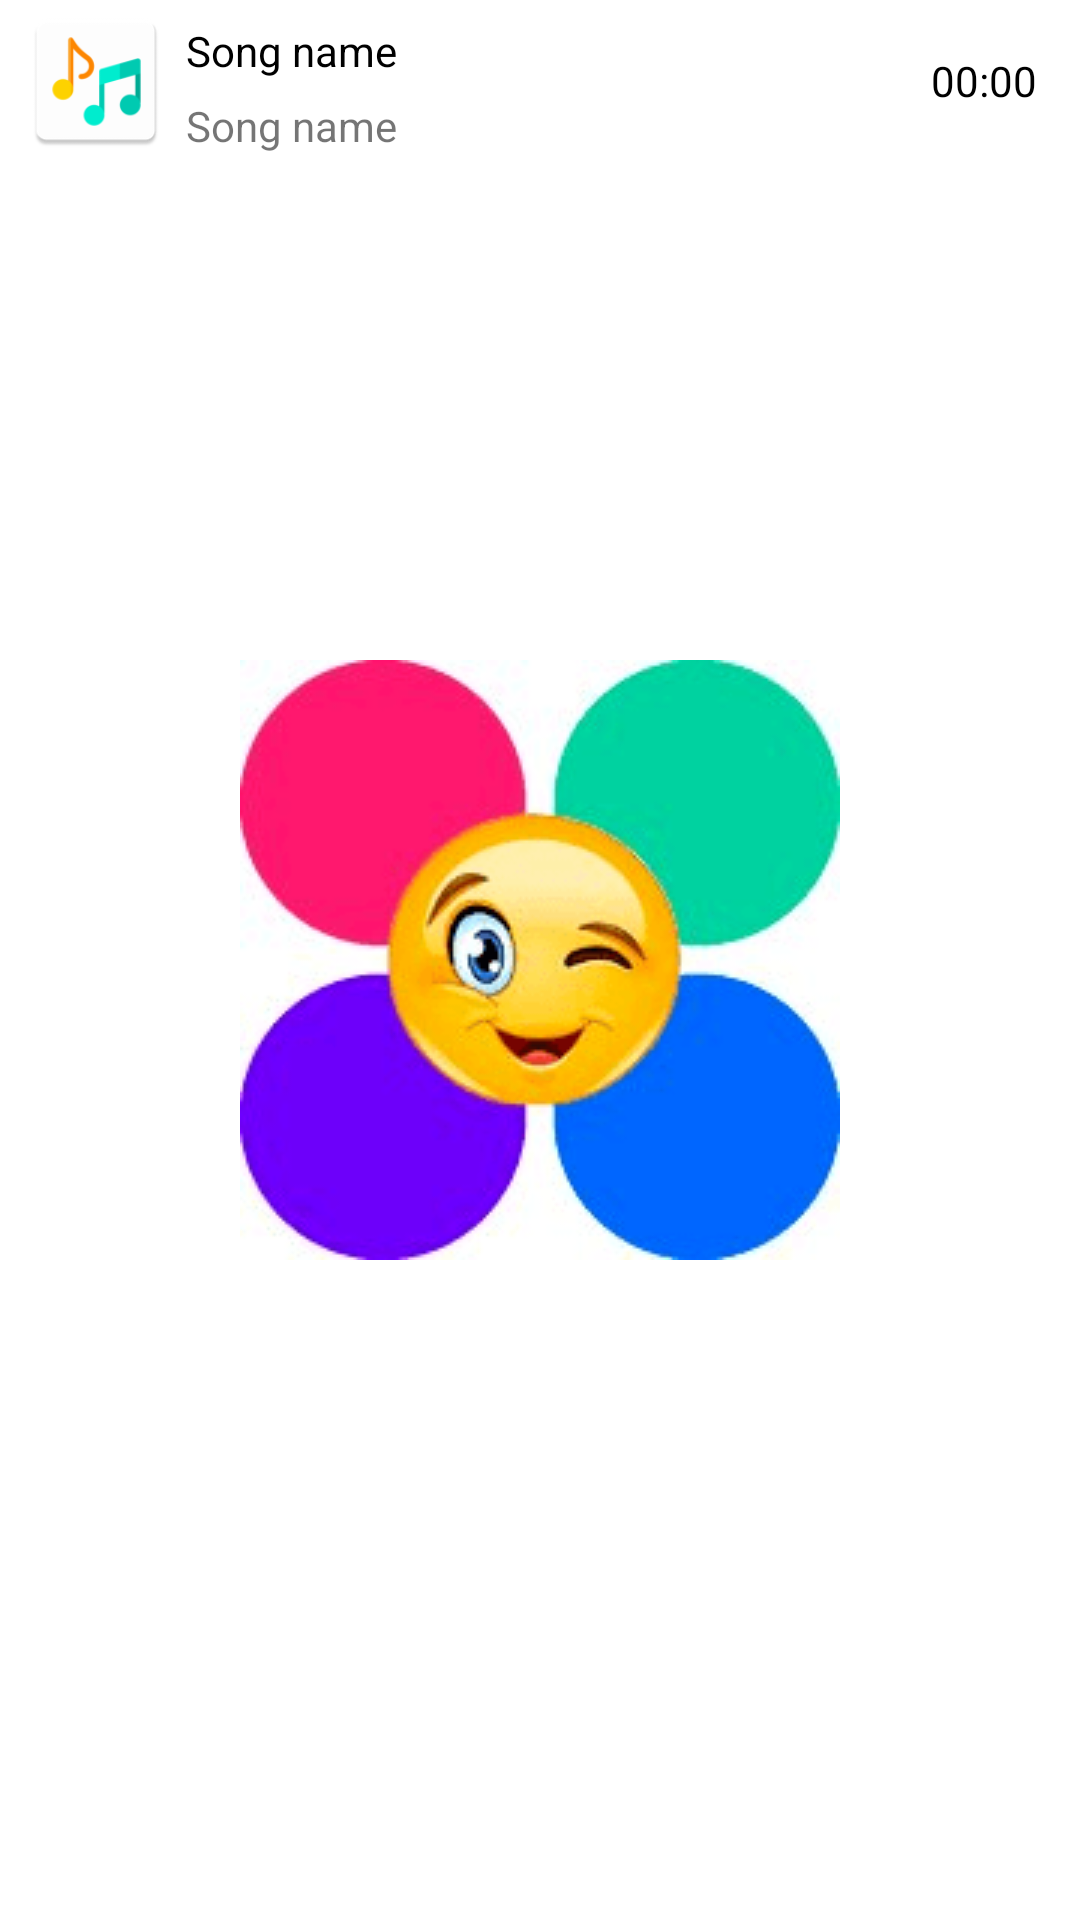

Named icons in this screenshot (1080*1920) and their bounding boxes, (x1,y1,x2,y2):
music player: (37,32,156,144)
